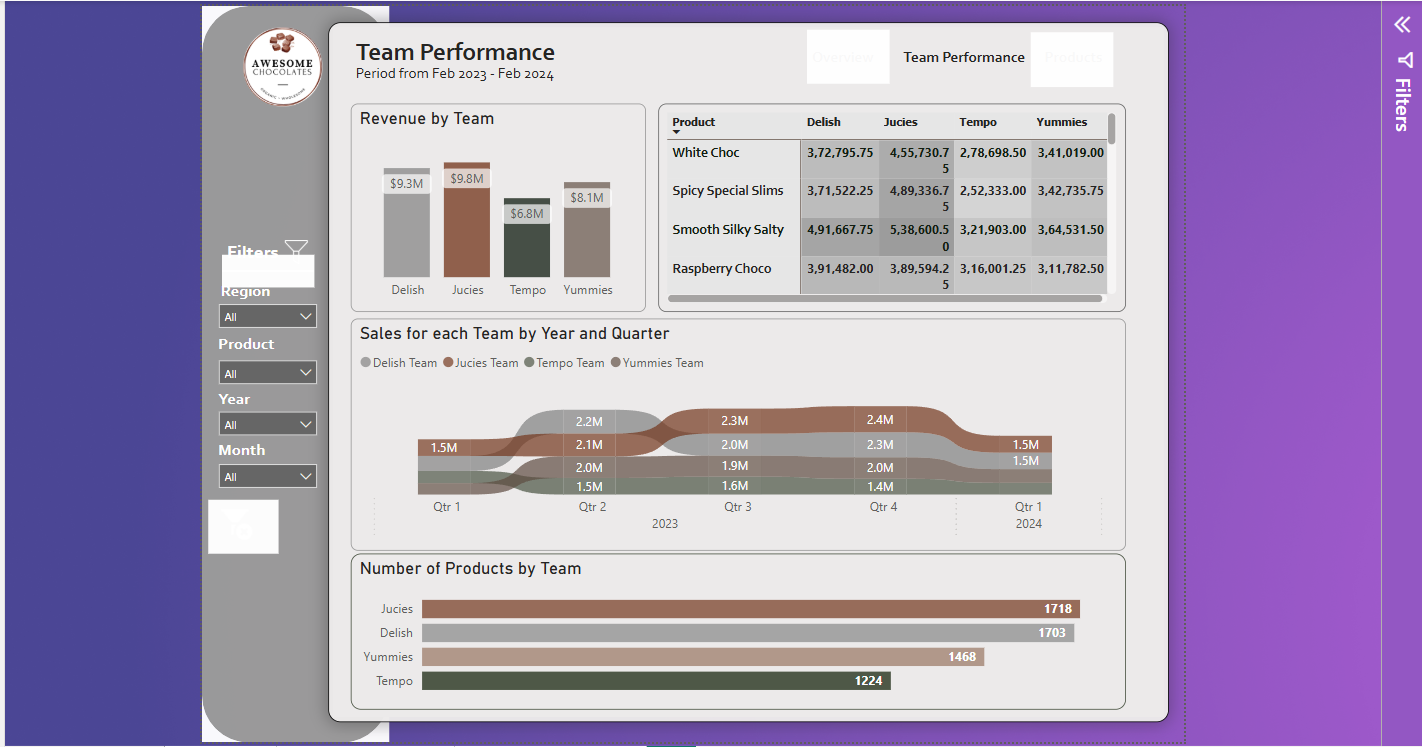

The page's visual inventory and layout, read from the dashboard file:
{"tool":"powerbi","page":{"name":"Team Performance","canvas":[960,720],"ordinal":1},"visuals":[{"type":"shape","box":[0,0,183,720.6],"z":0},{"type":"shape","box":[123.1,16.2,822.6,684.9],"z":1000},{"type":"image","box":[35.6,16.2,87.4,87.4],"z":2000},{"type":"textbox","box":[19.4,223.5,72.9,35.6],"z":3000},{"type":"image","box":[74.5,215.4,35.6,51.8],"z":4000},{"type":"shape","box":[19.4,242.9,90.7,32.4],"z":5000},{"type":"slicer","fields":{"Values":["locations.Region"]},"box":[6.5,281.7,116.6,51.8],"z":6000},{"type":"slicer","fields":{"Values":["products.Product"]},"box":[6.5,336.8,116.6,50.2],"z":7000},{"type":"slicer","fields":{"Values":["calendar.Date.Variation.Date Hierarchy.Year"]},"box":[6.5,387,116.6,50.2],"z":8000},{"type":"textbox","box":[11.3,369.2,72.9,35.6],"z":9000},{"type":"textbox","box":[11.3,315.7,72.9,35.6],"z":10000},{"type":"textbox","box":[13,263.9,72.9,35.6],"z":11000},{"type":"textbox","box":[145.7,24.3,218.6,51.8],"z":12000},{"type":"textbox","box":[145.7,51.8,242.9,51.8],"z":13000},{"type":"slicer","fields":{"Values":["calendar.Date.Variation.Date Hierarchy.Month"]},"box":[6.5,437.2,116.6,51.8],"z":14000},{"type":"textbox","box":[11.3,419.4,72.9,35.6],"z":15000},{"type":"image","box":[8.6,483,47.7,44],"z":16000},{"type":"actionButton","box":[6.1,483,68.5,52.6],"z":17000},{"type":"textbox","box":[591.9,35.5,80.7,33],"z":18000},{"type":"textbox","box":[681.1,35.5,138.2,33],"z":19000},{"type":"actionButton","box":[591.9,23.2,80.7,52.6],"z":20000},{"type":"lineStackedColumnComboChart","fields":{"Category":["shipments.Product","people.Team"],"Y":["calendar.Revenue"]},"box":[145.5,95.4,288.6,204.2],"z":21000},{"type":"ribbonChart","title":"Sales for each Team by Year and Quarter","fields":{"Category":["calendar.Date.Variation.Date Hierarchy.Year","calendar.Date.Variation.Date Hierarchy.Quarter"],"Y":["Comparsions.Sales for Delish","Comparsions.Sales for Jucies","Comparsions.Sales for Tempo","Comparsions.Sales for Yummies"]},"box":[145.5,305.7,758.2,227.4],"z":22000},{"type":"pivotTable","fields":{"Rows":["shipments.Product"],"Values":["Sum(shipments.Sales)"],"Columns":["people.Team"]},"box":[446.3,95.4,457.3,204.2],"z":23000},{"type":"barChart","fields":{"Category":["people.Team"],"Y":["CountNonNull(shipments.Product)"]},"box":[145.5,535.6,758.2,152.9],"z":24000},{"type":"textbox","box":[819.3,35.5,80.7,33],"z":25000},{"type":"actionButton","box":[811.2,25.9,81,53.4],"z":26000}]}

Visuals, with their boxes on the page's 960x720 design canvas (x1, y1, x2, y2). These are canvas units, not pixel positions in the 1422x747 screenshot, which may show the page scaled, cropped or inside an application window:
shape: {"left": 0, "top": 0, "right": 183, "bottom": 721}
shape: {"left": 123, "top": 16, "right": 946, "bottom": 701}
image: {"left": 36, "top": 16, "right": 123, "bottom": 104}
textbox: {"left": 19, "top": 224, "right": 92, "bottom": 259}
image: {"left": 74, "top": 215, "right": 110, "bottom": 267}
shape: {"left": 19, "top": 243, "right": 110, "bottom": 275}
slicer - locations.Region: {"left": 6, "top": 282, "right": 123, "bottom": 334}
slicer - products.Product: {"left": 6, "top": 337, "right": 123, "bottom": 387}
slicer - calendar.Date.Variation.Date Hierarchy.Year: {"left": 6, "top": 387, "right": 123, "bottom": 437}
textbox: {"left": 11, "top": 369, "right": 84, "bottom": 405}
textbox: {"left": 11, "top": 316, "right": 84, "bottom": 351}
textbox: {"left": 13, "top": 264, "right": 86, "bottom": 300}
textbox: {"left": 146, "top": 24, "right": 364, "bottom": 76}
textbox: {"left": 146, "top": 52, "right": 389, "bottom": 104}
slicer - calendar.Date.Variation.Date Hierarchy.Month: {"left": 6, "top": 437, "right": 123, "bottom": 489}
textbox: {"left": 11, "top": 419, "right": 84, "bottom": 455}
image: {"left": 9, "top": 483, "right": 56, "bottom": 527}
actionButton: {"left": 6, "top": 483, "right": 75, "bottom": 536}
textbox: {"left": 592, "top": 36, "right": 673, "bottom": 68}
textbox: {"left": 681, "top": 36, "right": 819, "bottom": 68}
actionButton: {"left": 592, "top": 23, "right": 673, "bottom": 76}
lineStackedColumnComboChart - shipments.Product x people.Team: {"left": 146, "top": 95, "right": 434, "bottom": 300}
"Sales for each Team by Year and Quarter" ribbonChart: {"left": 146, "top": 306, "right": 904, "bottom": 533}
pivotTable - shipments.Product x Sum(shipments.Sales): {"left": 446, "top": 95, "right": 904, "bottom": 300}
barChart - people.Team x CountNonNull(shipments.Product): {"left": 146, "top": 536, "right": 904, "bottom": 688}
textbox: {"left": 819, "top": 36, "right": 900, "bottom": 68}
actionButton: {"left": 811, "top": 26, "right": 892, "bottom": 79}
